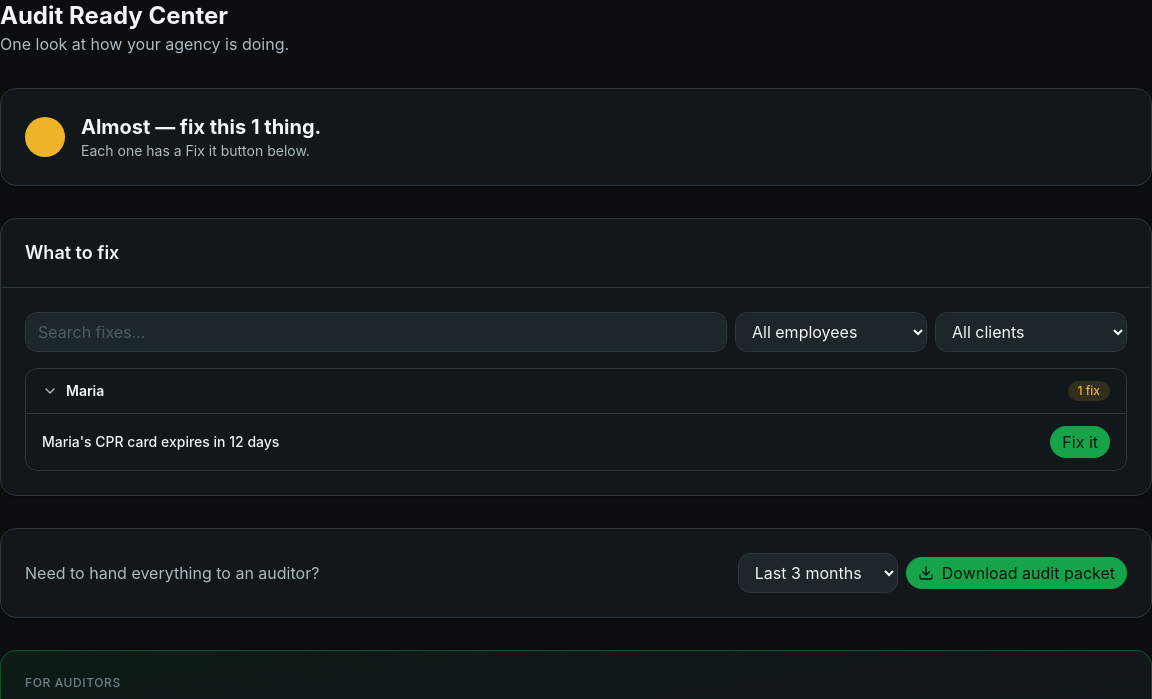
Test: AuditReadinessPage — simple view (default) › groups fixes per employee and opens the in-place fix popup
The image size is (1152, 699).
Expected: the text "Almost — fix this 1 thing." is shown, [81,113,321,141]
Expected: the button "Maria 1 fix" is shown, [26,369,1126,413]
// Fix it opens the in-place popup — no redirect link anywhere.
Step 1. Click the button "Fix it" → (1080, 442), box [1050,426,1110,458]
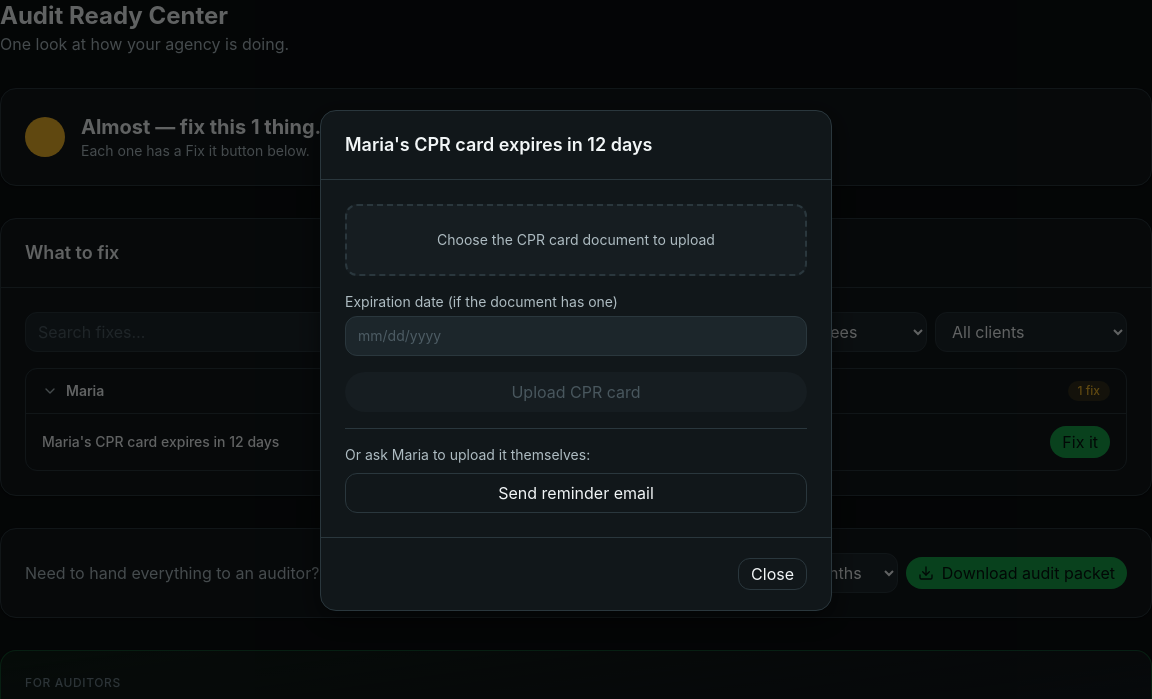
Expected: the dialog shows "Maria's CPR card expires in 12 days", [345,134,652,154]
Expected: the button "Upload CPR card" is shown, [345,372,807,412]
